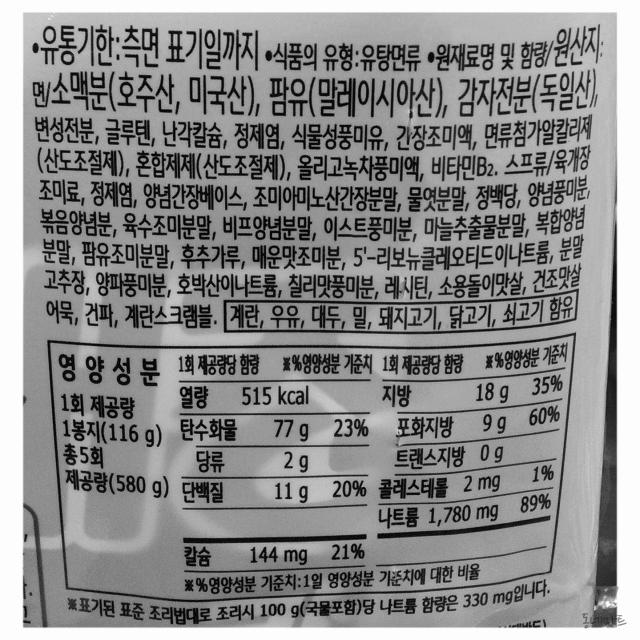Nutrition Label: (32, 330, 582, 625)
